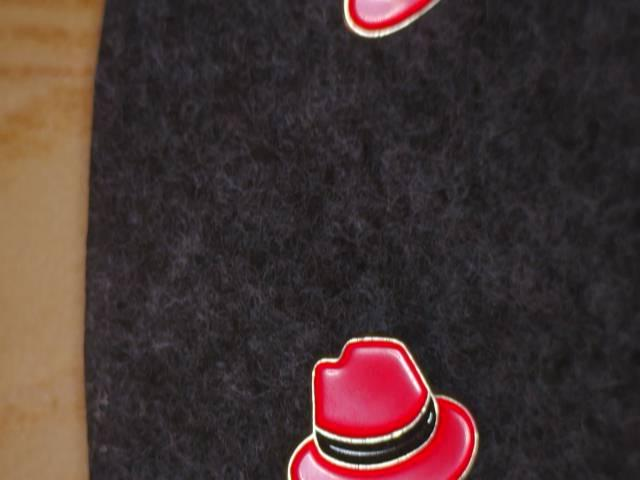Red-Hat: (263, 324, 515, 480)
